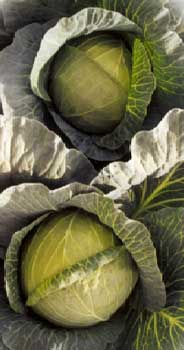cabbage: (0, 1, 183, 196), (0, 181, 168, 349)
